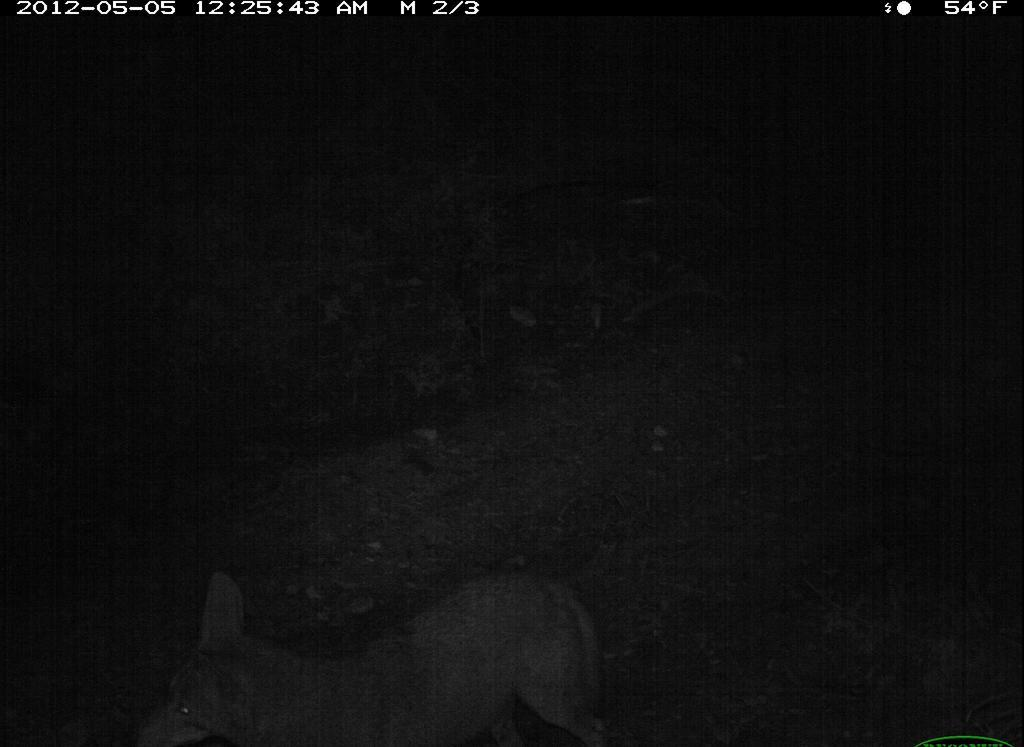coyote: (139, 562, 611, 744)
